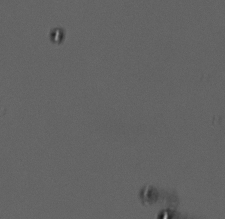Dead Cell: (139, 183, 159, 204), (49, 26, 66, 45)
